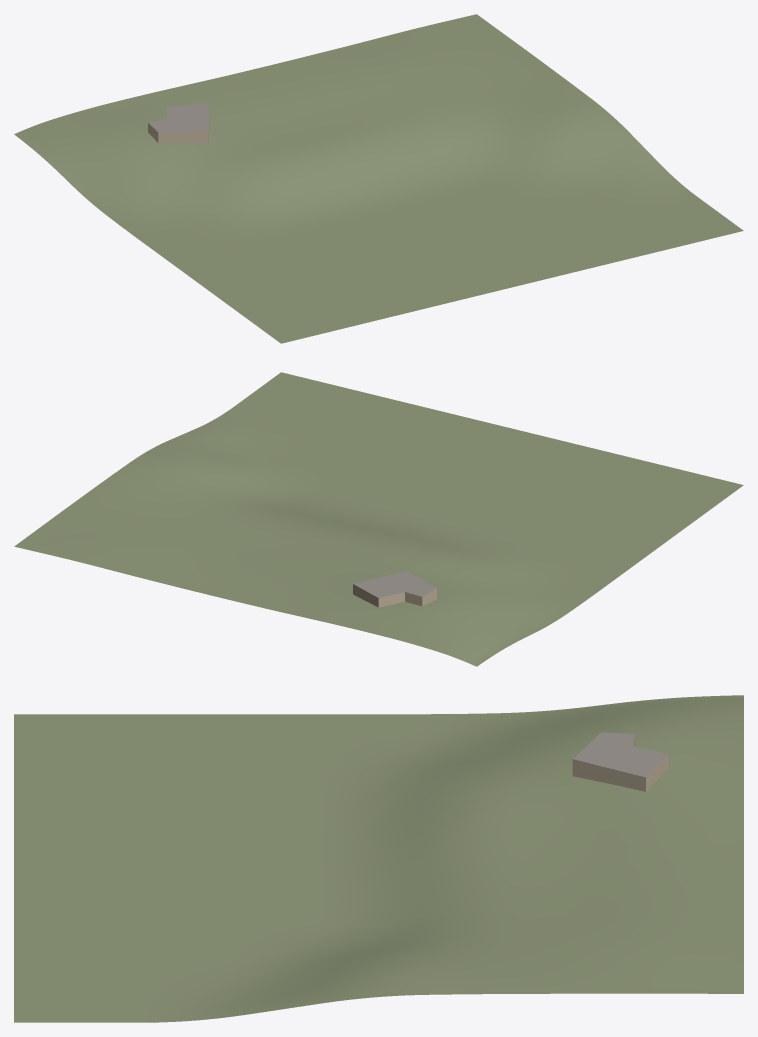
3 views of the same model, one above another, from view 1: azimuth 30°, elevation 25°; view 2: azimuth 150°, elevation 25°; view 3: azimuth 270°, elevation 25° (orthographic). The views are drawn at different scales.
Parts seen in each view (by area): view 1: ground, roofs, walls; view 2: ground, roofs, walls; view 3: ground, roofs, walls.
Boxes of the visible parts, bbox=[...] form: ground: bbox=[14, 14, 743, 343]; roofs: bbox=[148, 104, 209, 132]; walls: bbox=[148, 107, 209, 143]; ground: bbox=[14, 372, 743, 666]; roofs: bbox=[353, 571, 436, 597]; walls: bbox=[353, 584, 436, 607]; ground: bbox=[14, 695, 743, 1022]; roofs: bbox=[573, 732, 668, 777]; walls: bbox=[572, 735, 668, 791].
Size of the model in its own units: 250 by 16.33 by 250.
